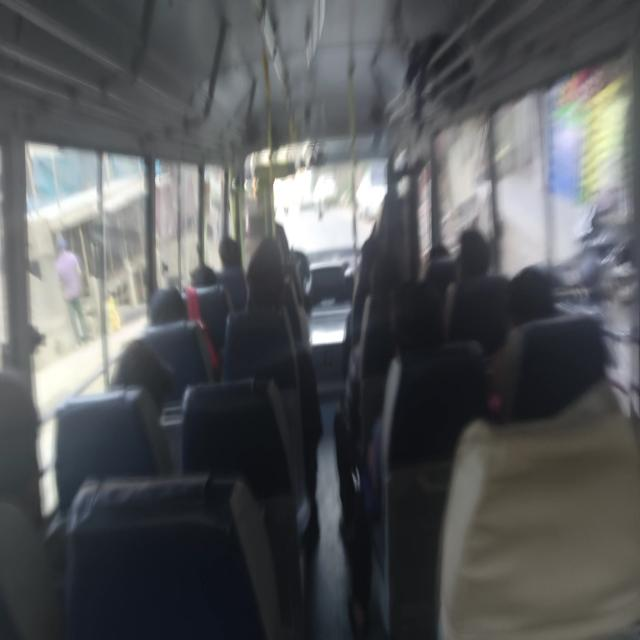person: (98, 325, 182, 422), (0, 362, 50, 508), (514, 257, 564, 333), (390, 295, 448, 357), (346, 227, 398, 274), (142, 279, 188, 330), (238, 254, 282, 306), (172, 250, 228, 288), (370, 250, 416, 296), (451, 232, 485, 271), (266, 233, 291, 270), (214, 223, 237, 261), (422, 234, 444, 265)
